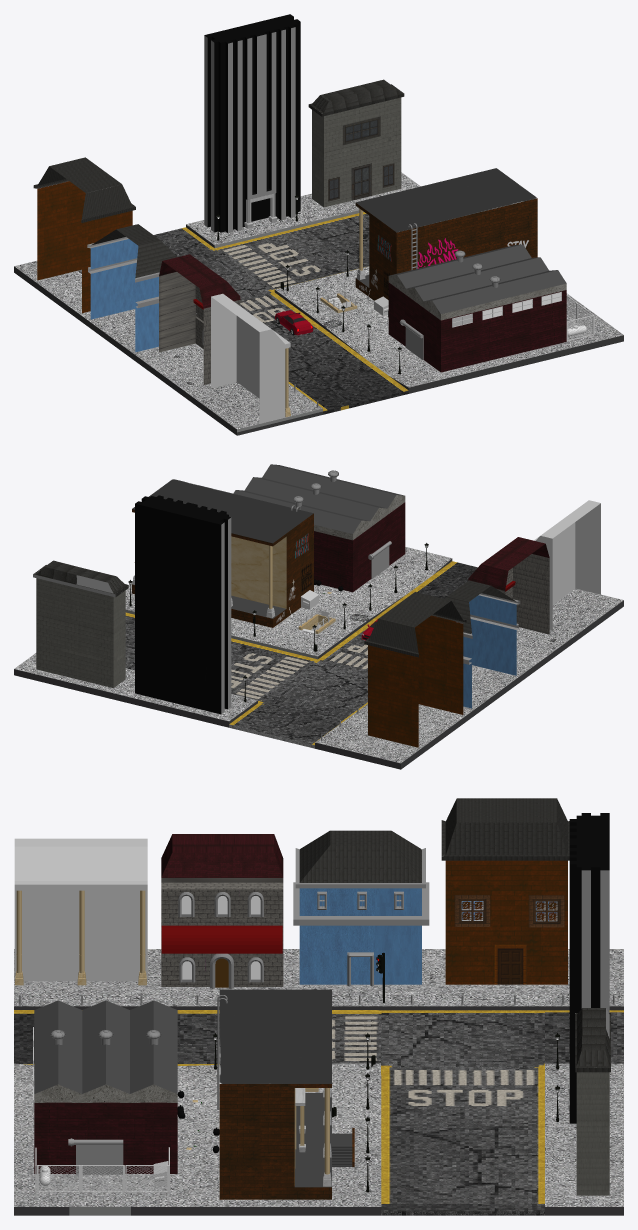
Rendered from city-17-project.fbx.
3 renders of one model, top to bottom at view 1: azimuth 30°, elevation 25°; view 2: azimuth 150°, elevation 25°; view 3: azimuth 270°, elevation 25°, orthographic. The views are drawn at different scales.
Visible parts, largest first — view 1: Chão, Cube.030, Cube.020, Cube.021, Cube.029, Cube.018, Cube.017, Cube.001, Cylinder.003, Carro; view 2: Chão, Cube.030, Cube.018, Cube.021, Cube.020, Cube.029, Cube.017, Cube.001, Cylinder.003, Cylinder.021; view 3: Chão, Cube.021, Cube.018, Cube.020, Cube.017, Cylinder.003, Cube.001, Cube.030, Cube.029, Cylinder.022, Cube.034, Cube.032 (+5 smaller).
Boxes of the visible parts, x1,y1,x2,y2 form: Chão: (14, 172, 623, 435); Cube.030: (204, 14, 300, 233); Cube.020: (388, 244, 566, 372); Cube.021: (355, 168, 537, 300); Cube.029: (308, 79, 404, 207); Cube.018: (33, 157, 135, 313); Cube.017: (87, 224, 176, 352); Cube.001: (211, 293, 290, 423); Cylinder.003: (159, 254, 242, 384); Carro: (275, 310, 313, 335); Chão: (14, 547, 623, 769); Cube.030: (135, 495, 231, 714); Cube.018: (364, 592, 466, 747); Cube.021: (132, 479, 313, 627); Cube.020: (233, 464, 405, 592); Cube.029: (33, 560, 128, 687); Cube.017: (445, 580, 520, 708); Cube.001: (534, 500, 600, 630); Cylinder.003: (468, 537, 549, 634); Cylinder.021: (368, 541, 391, 579); Chão: (14, 949, 623, 1215); Cube.021: (219, 989, 354, 1199); Cube.018: (441, 798, 569, 984); Cube.020: (34, 1000, 177, 1173); Cube.017: (293, 830, 429, 986); Cylinder.003: (161, 834, 283, 988); Cube.001: (14, 838, 147, 981); Cube.030: (569, 813, 609, 1123); Cube.029: (575, 1008, 610, 1195); Cylinder.022: (68, 1138, 123, 1174); Cube.034: (125, 1165, 168, 1192); Cube.032: (37, 1165, 80, 1192).
Size of the model in its own units: 9058 by 4851 by 9037.
